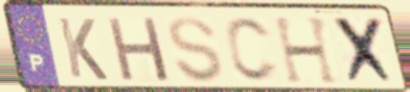C: (222, 15, 282, 85)
H: (271, 15, 342, 87), (104, 15, 173, 84)
K: (55, 16, 111, 83)
S: (166, 14, 226, 85)
X: (330, 15, 401, 87)
